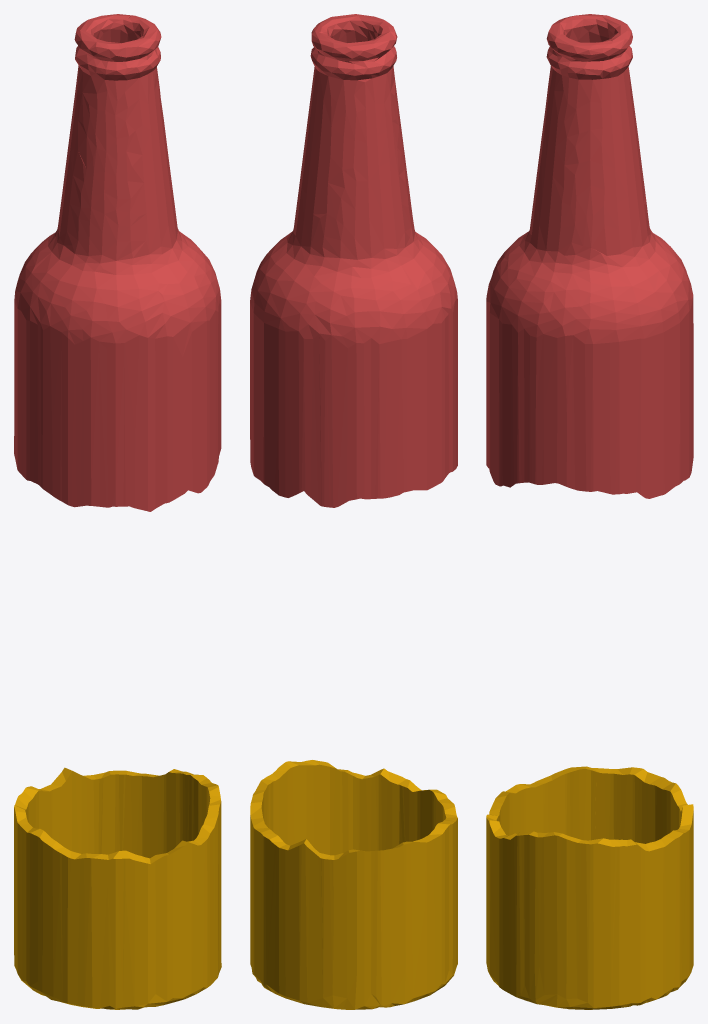
Rendered from fractured_58_2pcs_transformed.glb.
3 views of the same model, side by side, from view 1: azimuth 30°, elevation 25°; view 2: azimuth 150°, elevation 25°; view 3: azimuth 270°, elevation 25° (orthographic).
Parts seen in each view (by area): view 1: piece_1.obj, piece_0.obj; view 2: piece_1.obj, piece_0.obj; view 3: piece_1.obj, piece_0.obj.
Boxes of the visible parts, x1,y1,x2,y2 form: piece_1.obj: [14, 14, 221, 511]; piece_0.obj: [14, 767, 221, 1009]; piece_1.obj: [250, 14, 457, 507]; piece_0.obj: [250, 760, 457, 1009]; piece_1.obj: [486, 14, 693, 498]; piece_0.obj: [486, 766, 693, 1009].
Bounding box in the file's own units: 0.3199 × 1.6 × 0.32.
